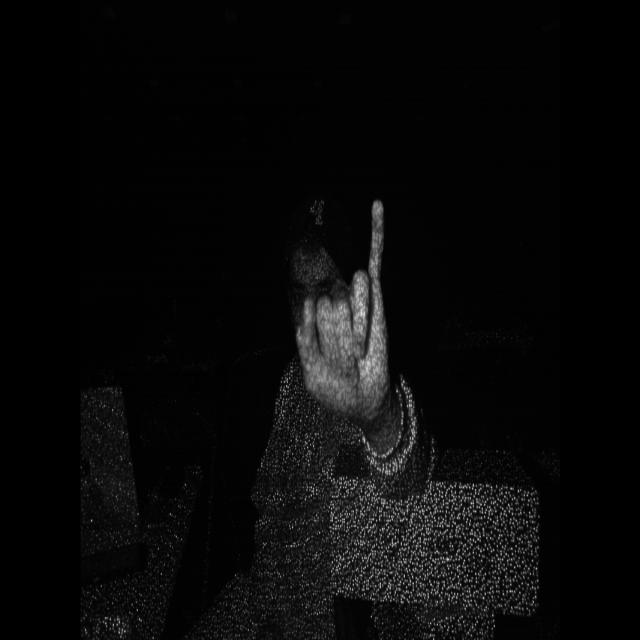I: (284, 182, 400, 426)
